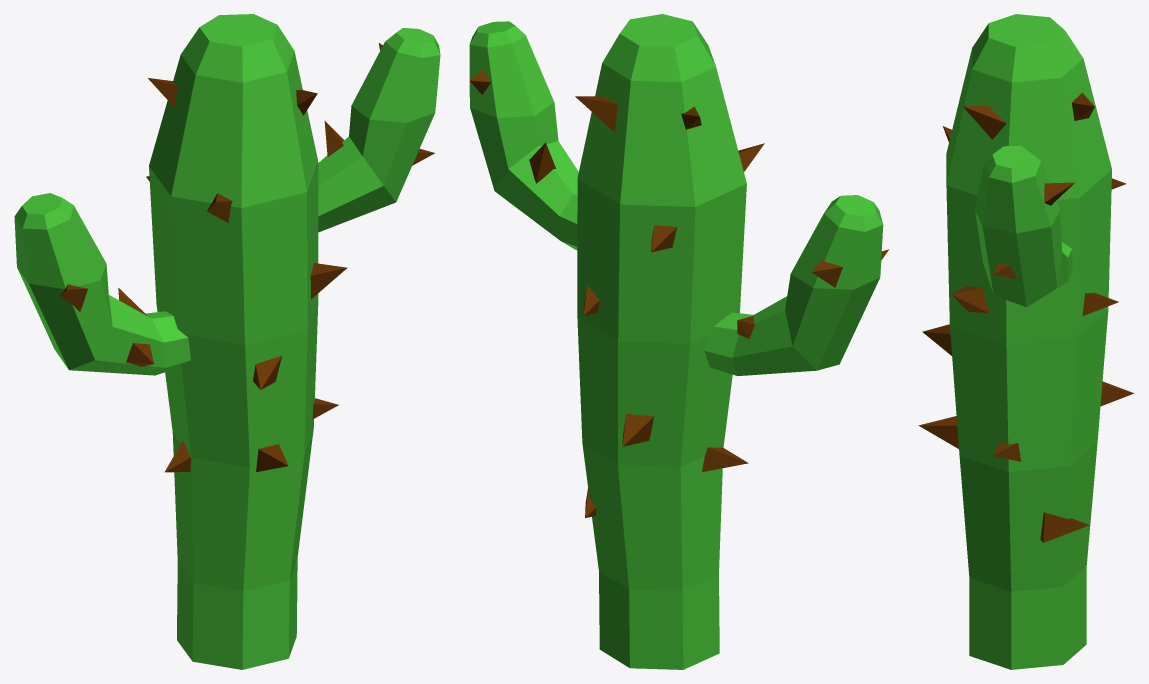
The model's file is cactus.fbx.
The picture shows the model from 3 angles, left to right: view 1: azimuth 30°, elevation 25°; view 2: azimuth 150°, elevation 25°; view 3: azimuth 270°, elevation 25°; orthographic projection.
Parts seen in each view (by area): view 1: Circle, Cube.001, Cube, Cube.003; view 2: Circle, Cube.006, Cube.010, Cube.005, Cube.018; view 3: Circle, Cube.008, Cube.016, Cube.001, Cube, Cube.009, Cube.003, Cube.006, Cube.019, Cube.010, Cube.004.
Boxes of the visible parts, box(x1,y1,x2,y2) form: Circle: box(14, 14, 440, 669); Cube.001: box(310, 263, 347, 299); Cube: box(256, 444, 288, 472); Cube.003: box(253, 355, 281, 389); Circle: box(469, 14, 883, 669); Cube.006: box(622, 414, 653, 446); Cube.010: box(575, 96, 617, 132); Cube.005: box(702, 447, 748, 471); Cube.018: box(529, 142, 555, 183); Circle: box(946, 14, 1111, 669); Cube.008: box(1040, 512, 1089, 542); Cube.016: box(963, 105, 1006, 139); Cube.001: box(951, 286, 989, 313); Cube: box(918, 416, 958, 448); Cube.009: box(1082, 292, 1118, 316); Cube.003: box(922, 324, 951, 355); Cube.006: box(1100, 381, 1133, 406); Cube.019: box(1044, 182, 1074, 205); Cube.010: box(1072, 93, 1094, 120); Cube.004: box(993, 442, 1021, 461).
Bounding box in the file's own units: 682 × 968 × 309.
